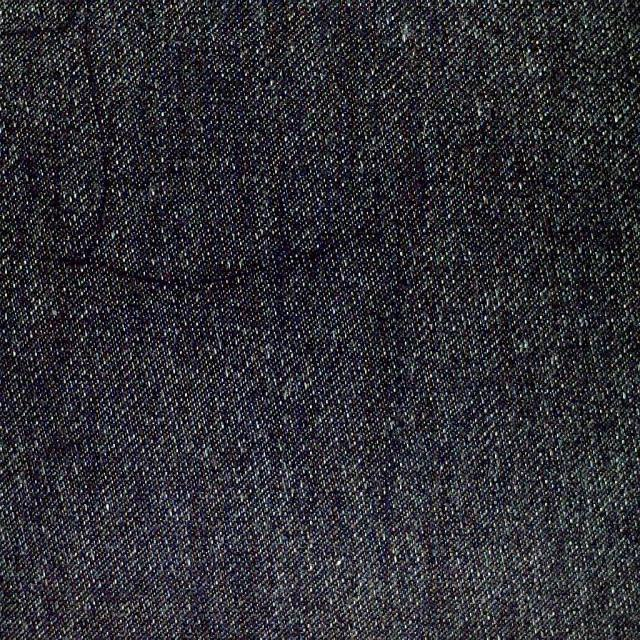defect: (1, 0, 118, 281), (99, 220, 381, 300)
